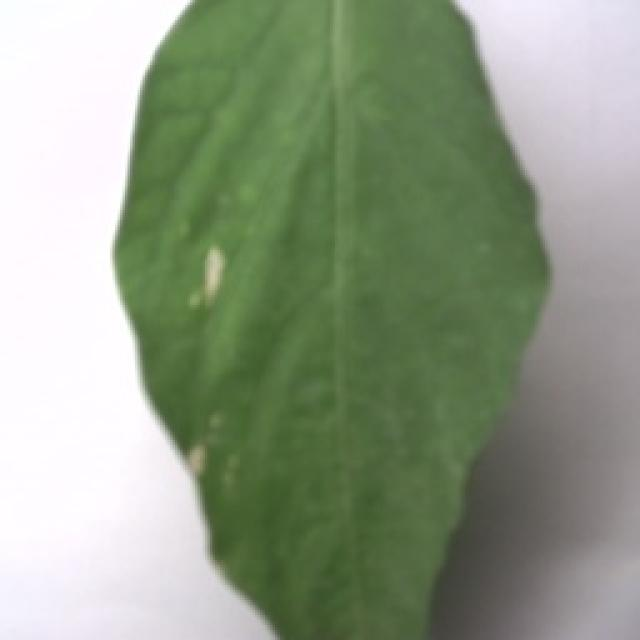Leaf: (115, 1, 549, 640)
